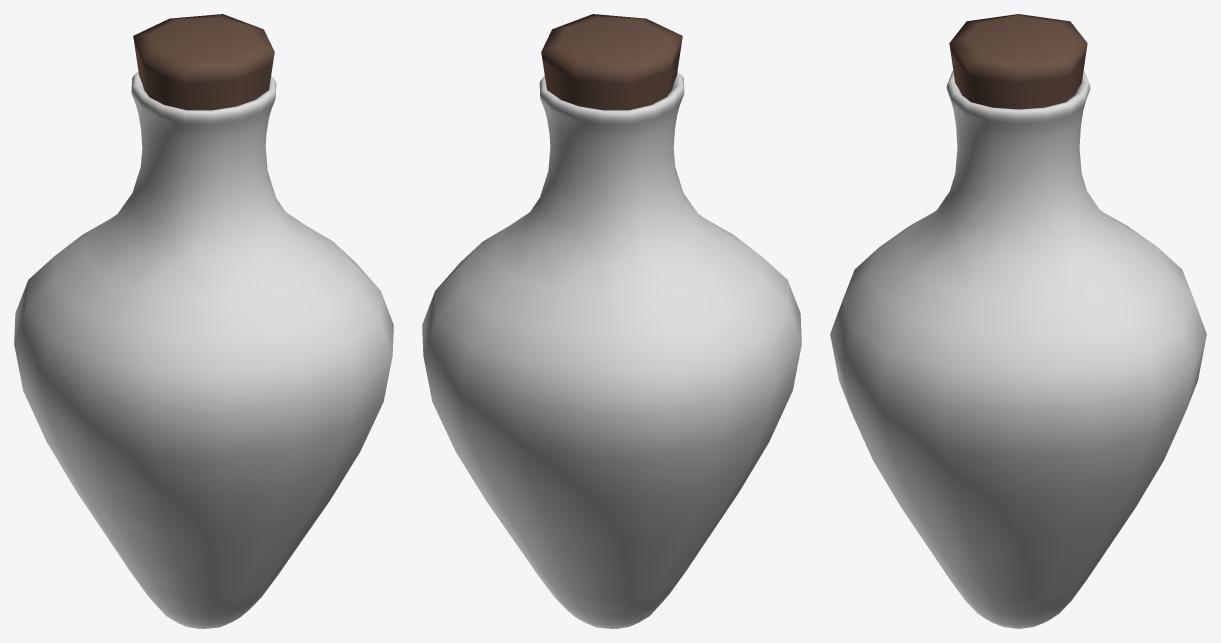
The model's file is potion4_filled.glb.
3 views of the same model, side by side, from view 1: azimuth 30°, elevation 25°; view 2: azimuth 150°, elevation 25°; view 3: azimuth 270°, elevation 25° (orthographic).
Visible parts, largest first — view 1: Potion4_Filled; view 2: Potion4_Filled; view 3: Potion4_Filled.
Part boxes in pixels (bbox=[...]): Potion4_Filled: bbox=[14, 14, 393, 628]; Potion4_Filled: bbox=[422, 14, 801, 628]; Potion4_Filled: bbox=[830, 14, 1206, 628].
Bounding box in the file's own units: 0.7187 × 1.24 × 0.7187.
